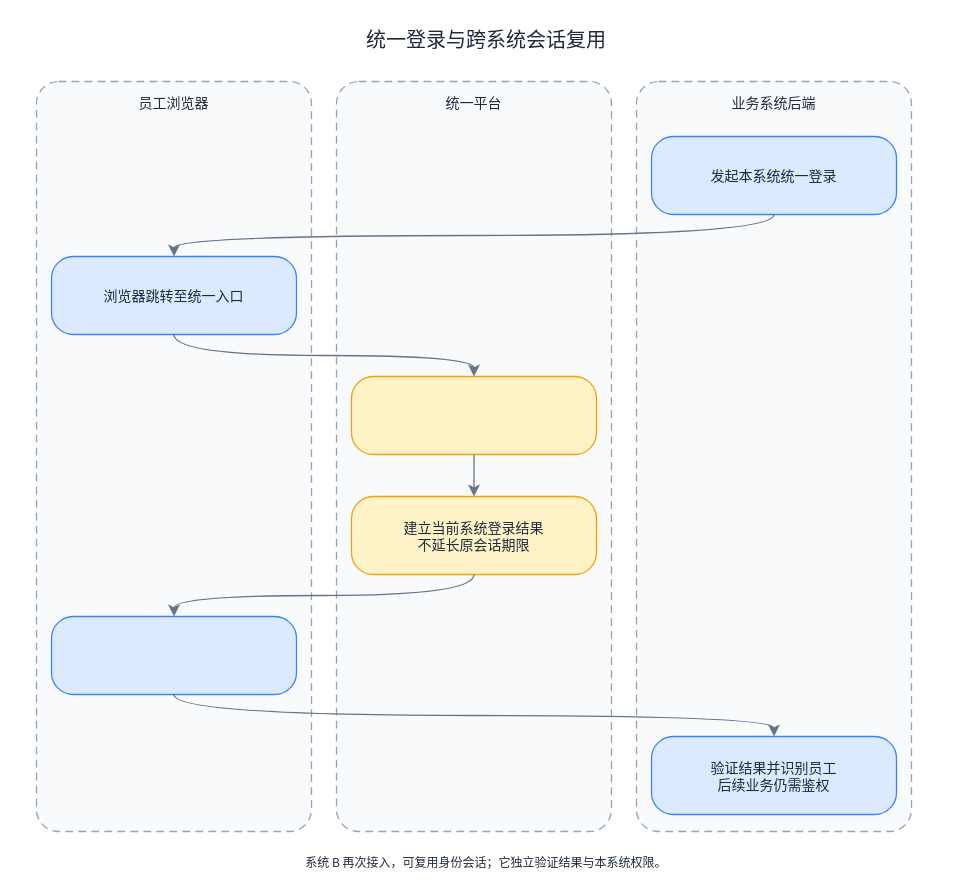
This 973x895 diagram has some shape labels left out. The shapes that lost their labels are listed below. From the top down, each one's box as (x1, y1, x2, y2) in pixels, then its label:
(350, 375, 597, 455): 校验系统与返回目标 认证或复用有效会话
(50, 615, 297, 695): 返回认可的业务系统
